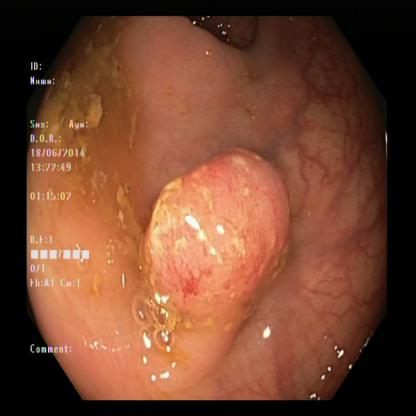Labels: (25, 54, 90, 360)
Polyps: (144, 157, 313, 334)
